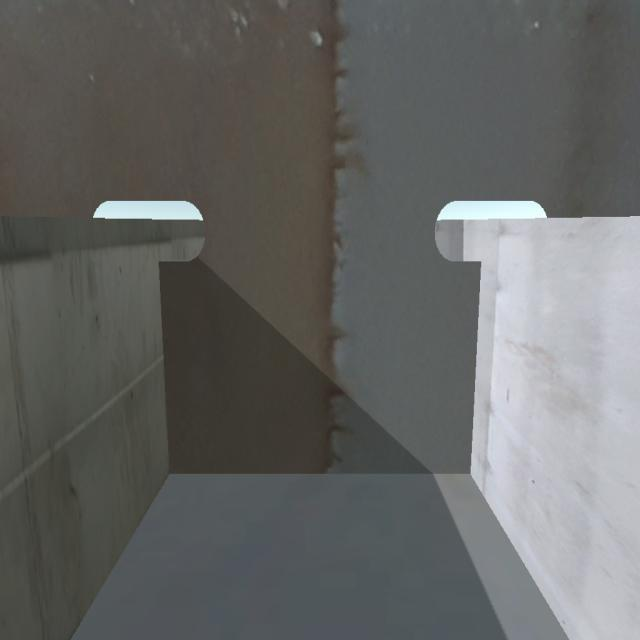fillet_yong_jeop_jang: (170, 463, 482, 485)
longi_yong_jeop_jang: (466, 258, 484, 465), (158, 257, 173, 475)
